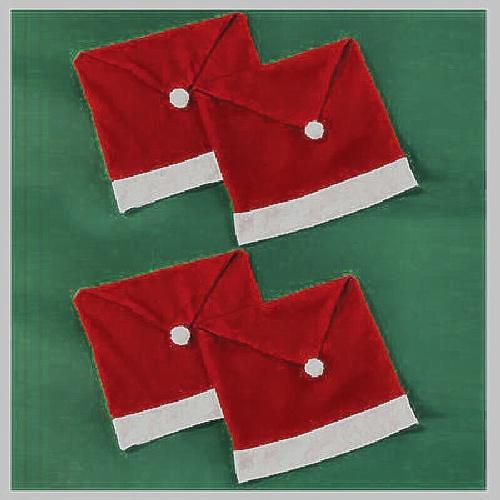table: (16, 14, 484, 479)
